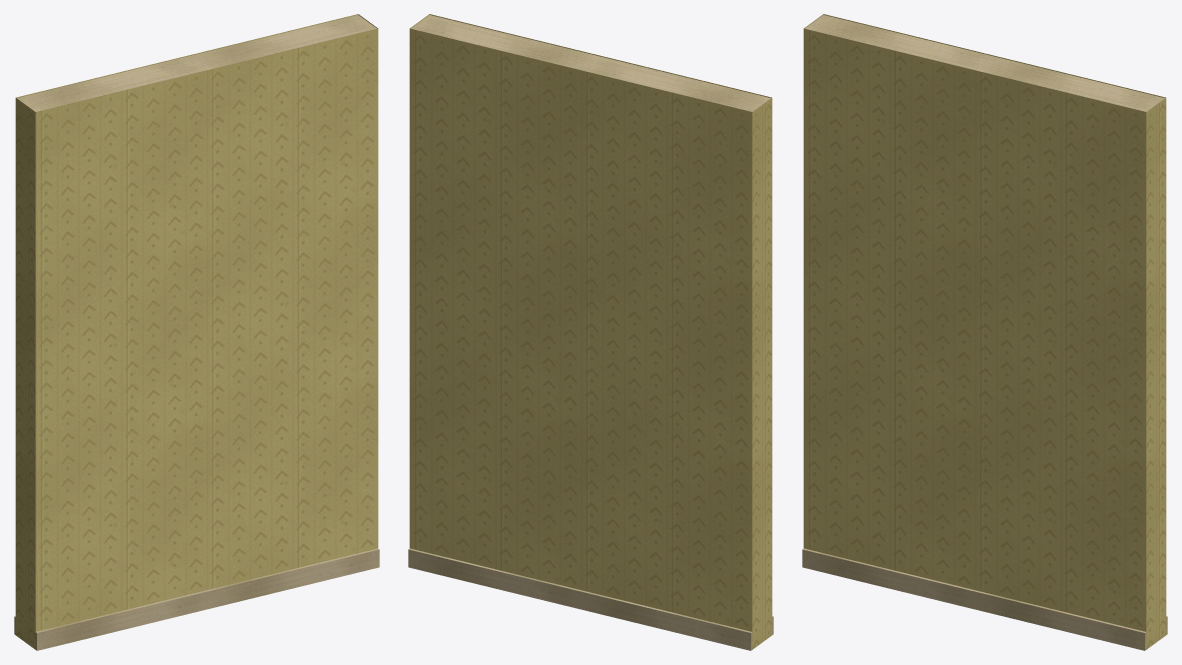
The model's file is back_wall.obj.
3 views of the same model, side by side, from view 1: azimuth 30°, elevation 25°; view 2: azimuth 150°, elevation 25°; view 3: azimuth 330°, elevation 25° (orthographic).
Visible parts, largest first — view 1: back_wall_wall, back_wall_trim; view 2: back_wall_wall, back_wall_trim; view 3: back_wall_wall, back_wall_trim.
Part boxes in pixels (<box>): back_wall_wall: <box>15,14,378,649</box>; back_wall_trim: <box>14,15,379,650</box>; back_wall_wall: <box>409,14,772,649</box>; back_wall_trim: <box>408,15,773,650</box>; back_wall_wall: <box>803,14,1166,649</box>; back_wall_trim: <box>802,15,1167,650</box>.
Bounding box in the file's own units: 2 × 3 × 0.23.
Materials: 2 (2 with a texture image).
